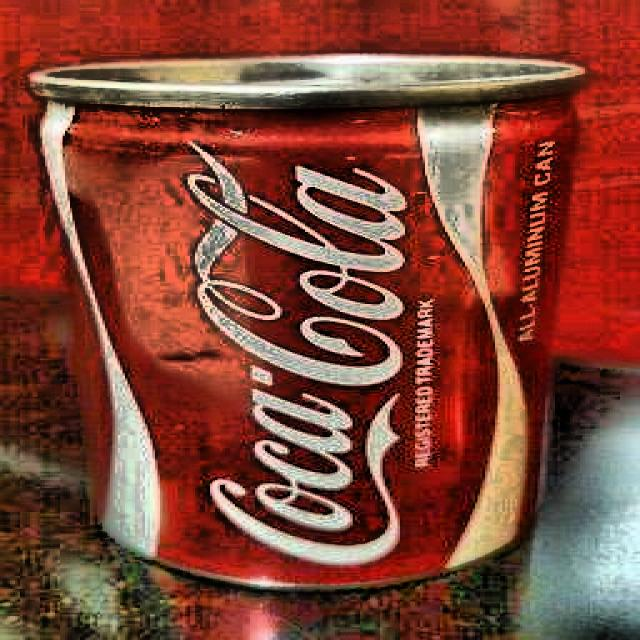Cans: (0, 38, 569, 596)
